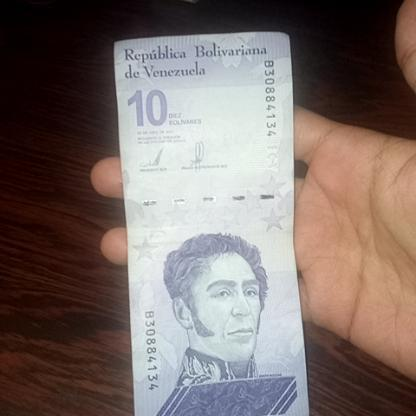vef_front: (114, 35, 311, 416)
